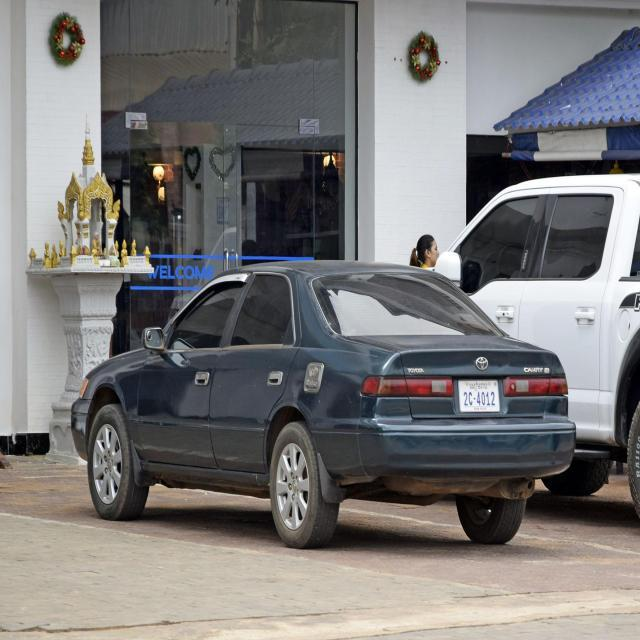Siem_Reap: (470, 382, 489, 392)
